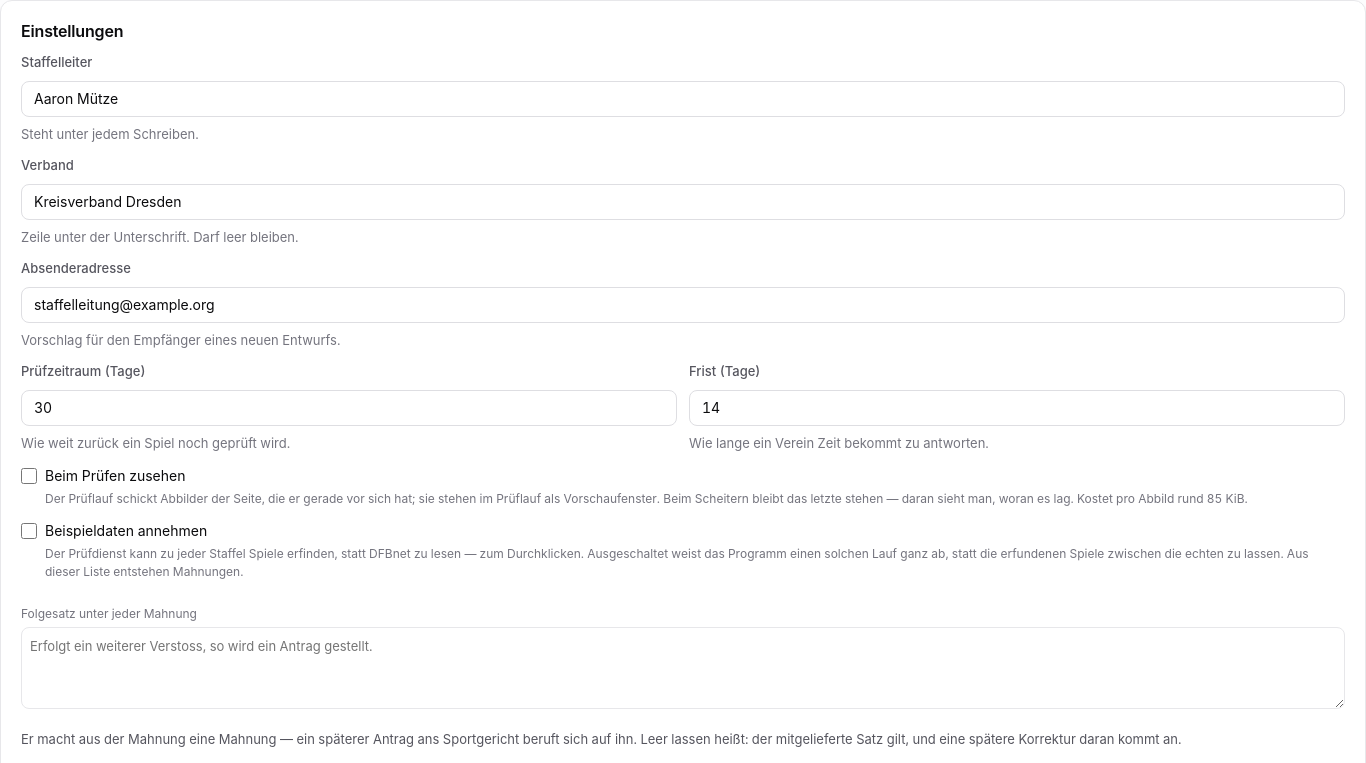
Test: Einstellungen › übernimmt die Antwort und nicht die Eingabe
Replace the text in the field labelled "Staffelleiter" with "  Getrimmt  ": (683, 98) [21,80,1345,116]
(page scrolled)
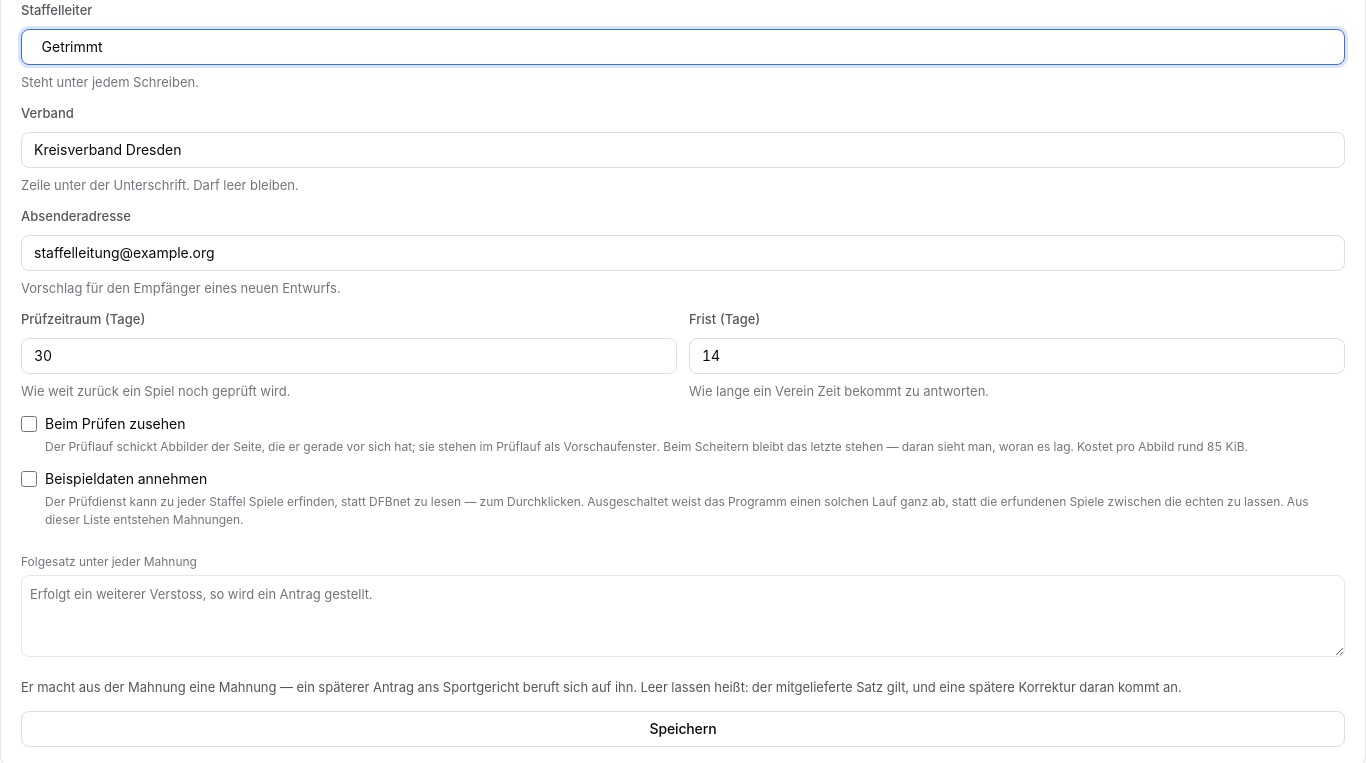
Click the button "Speichern": (683, 729) [21,711,1345,747]
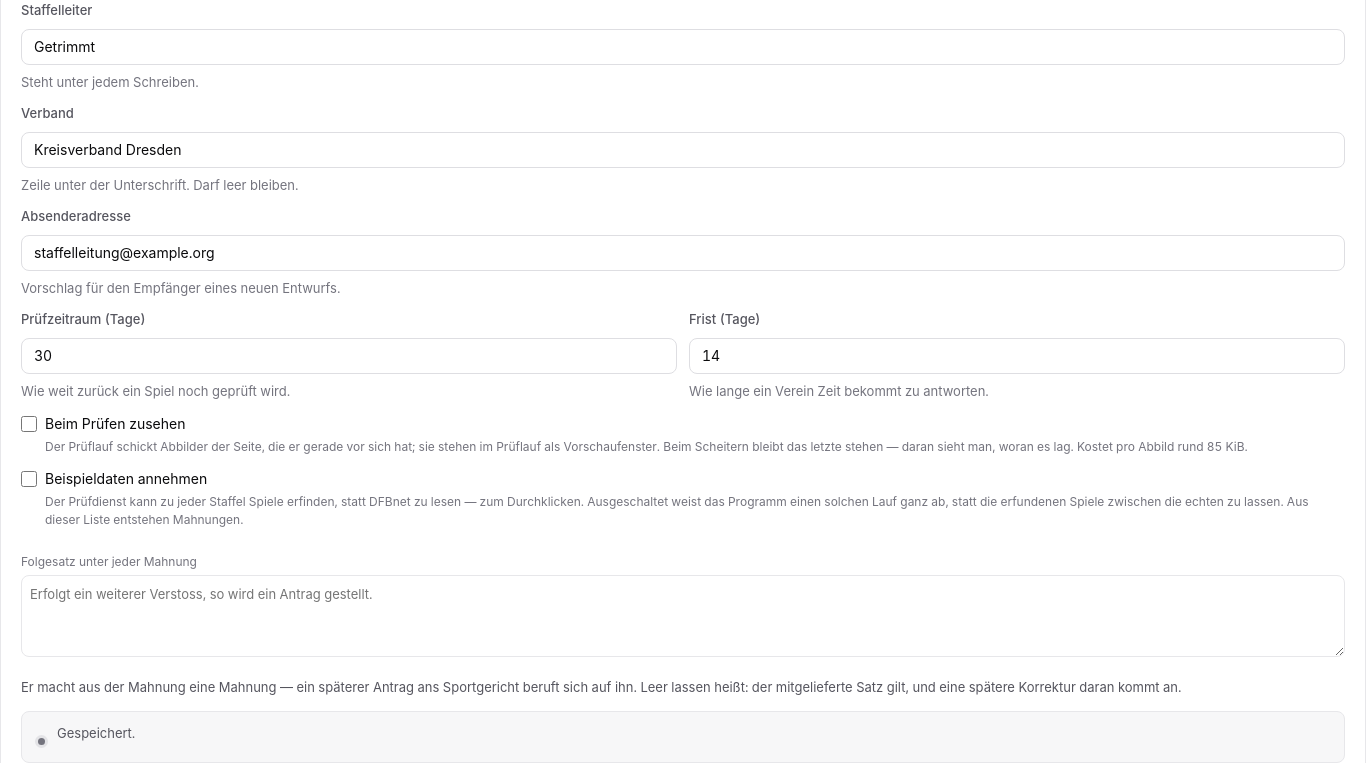
Result: the text "Gespeichert." is shown at [57,724,135,743]
